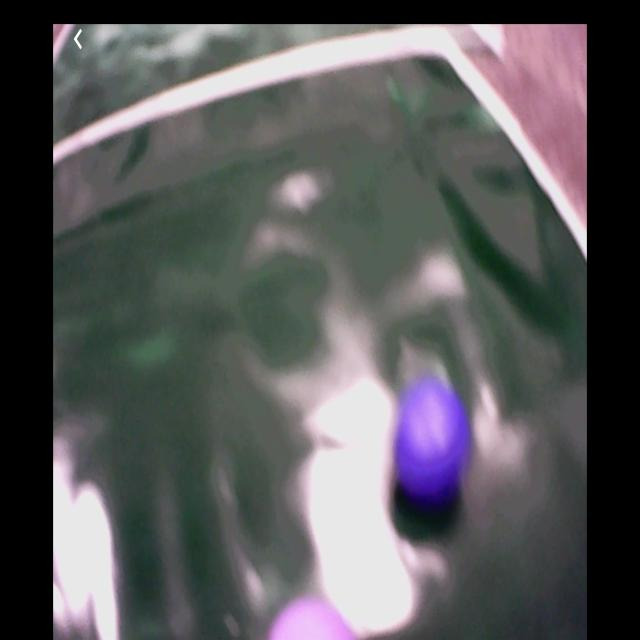ball: (393, 377, 471, 498), (270, 594, 361, 640)
